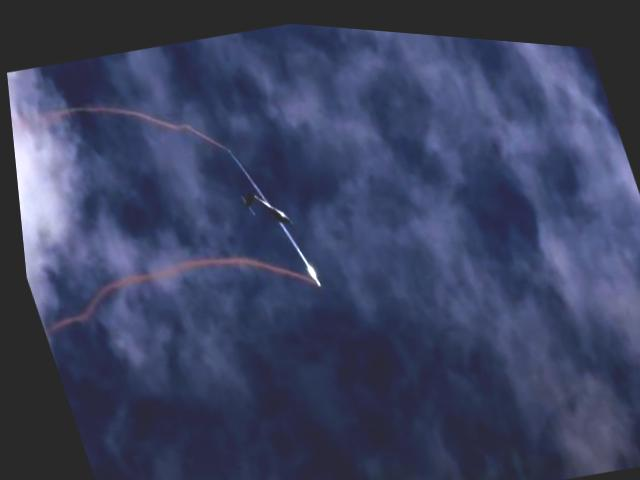iha: (224, 134, 317, 292)
